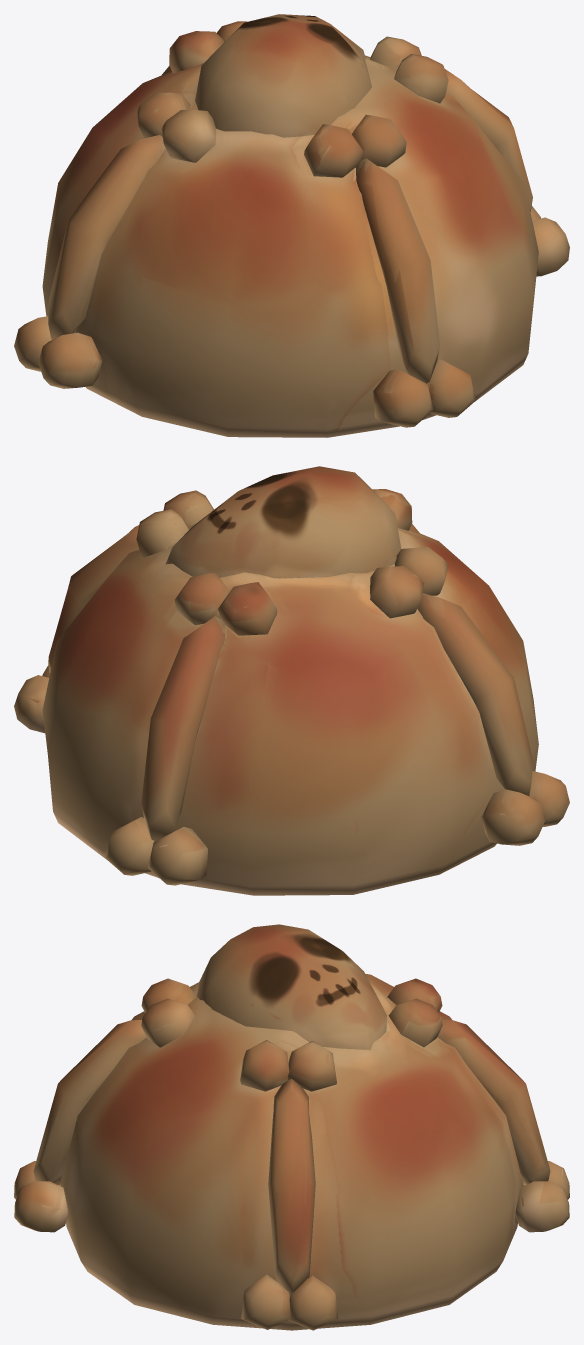
The model's file is bread.fbx.
The picture shows the model from 3 angles, top to bottom: view 1: azimuth 30°, elevation 25°; view 2: azimuth 150°, elevation 25°; view 3: azimuth 270°, elevation 25°; orthographic projection. The views are drawn at different scales.
Visible parts, largest first — view 1: Roundcube; view 2: Roundcube; view 3: Roundcube.
Part boxes in pixels (bbox=[...]): Roundcube: bbox=[14, 14, 569, 437]; Roundcube: bbox=[14, 466, 569, 895]; Roundcube: bbox=[14, 924, 569, 1330].
Size of the model in its own units: 50.73 by 32.28 by 50.73.
Materials: 1 (1 with a texture image).
